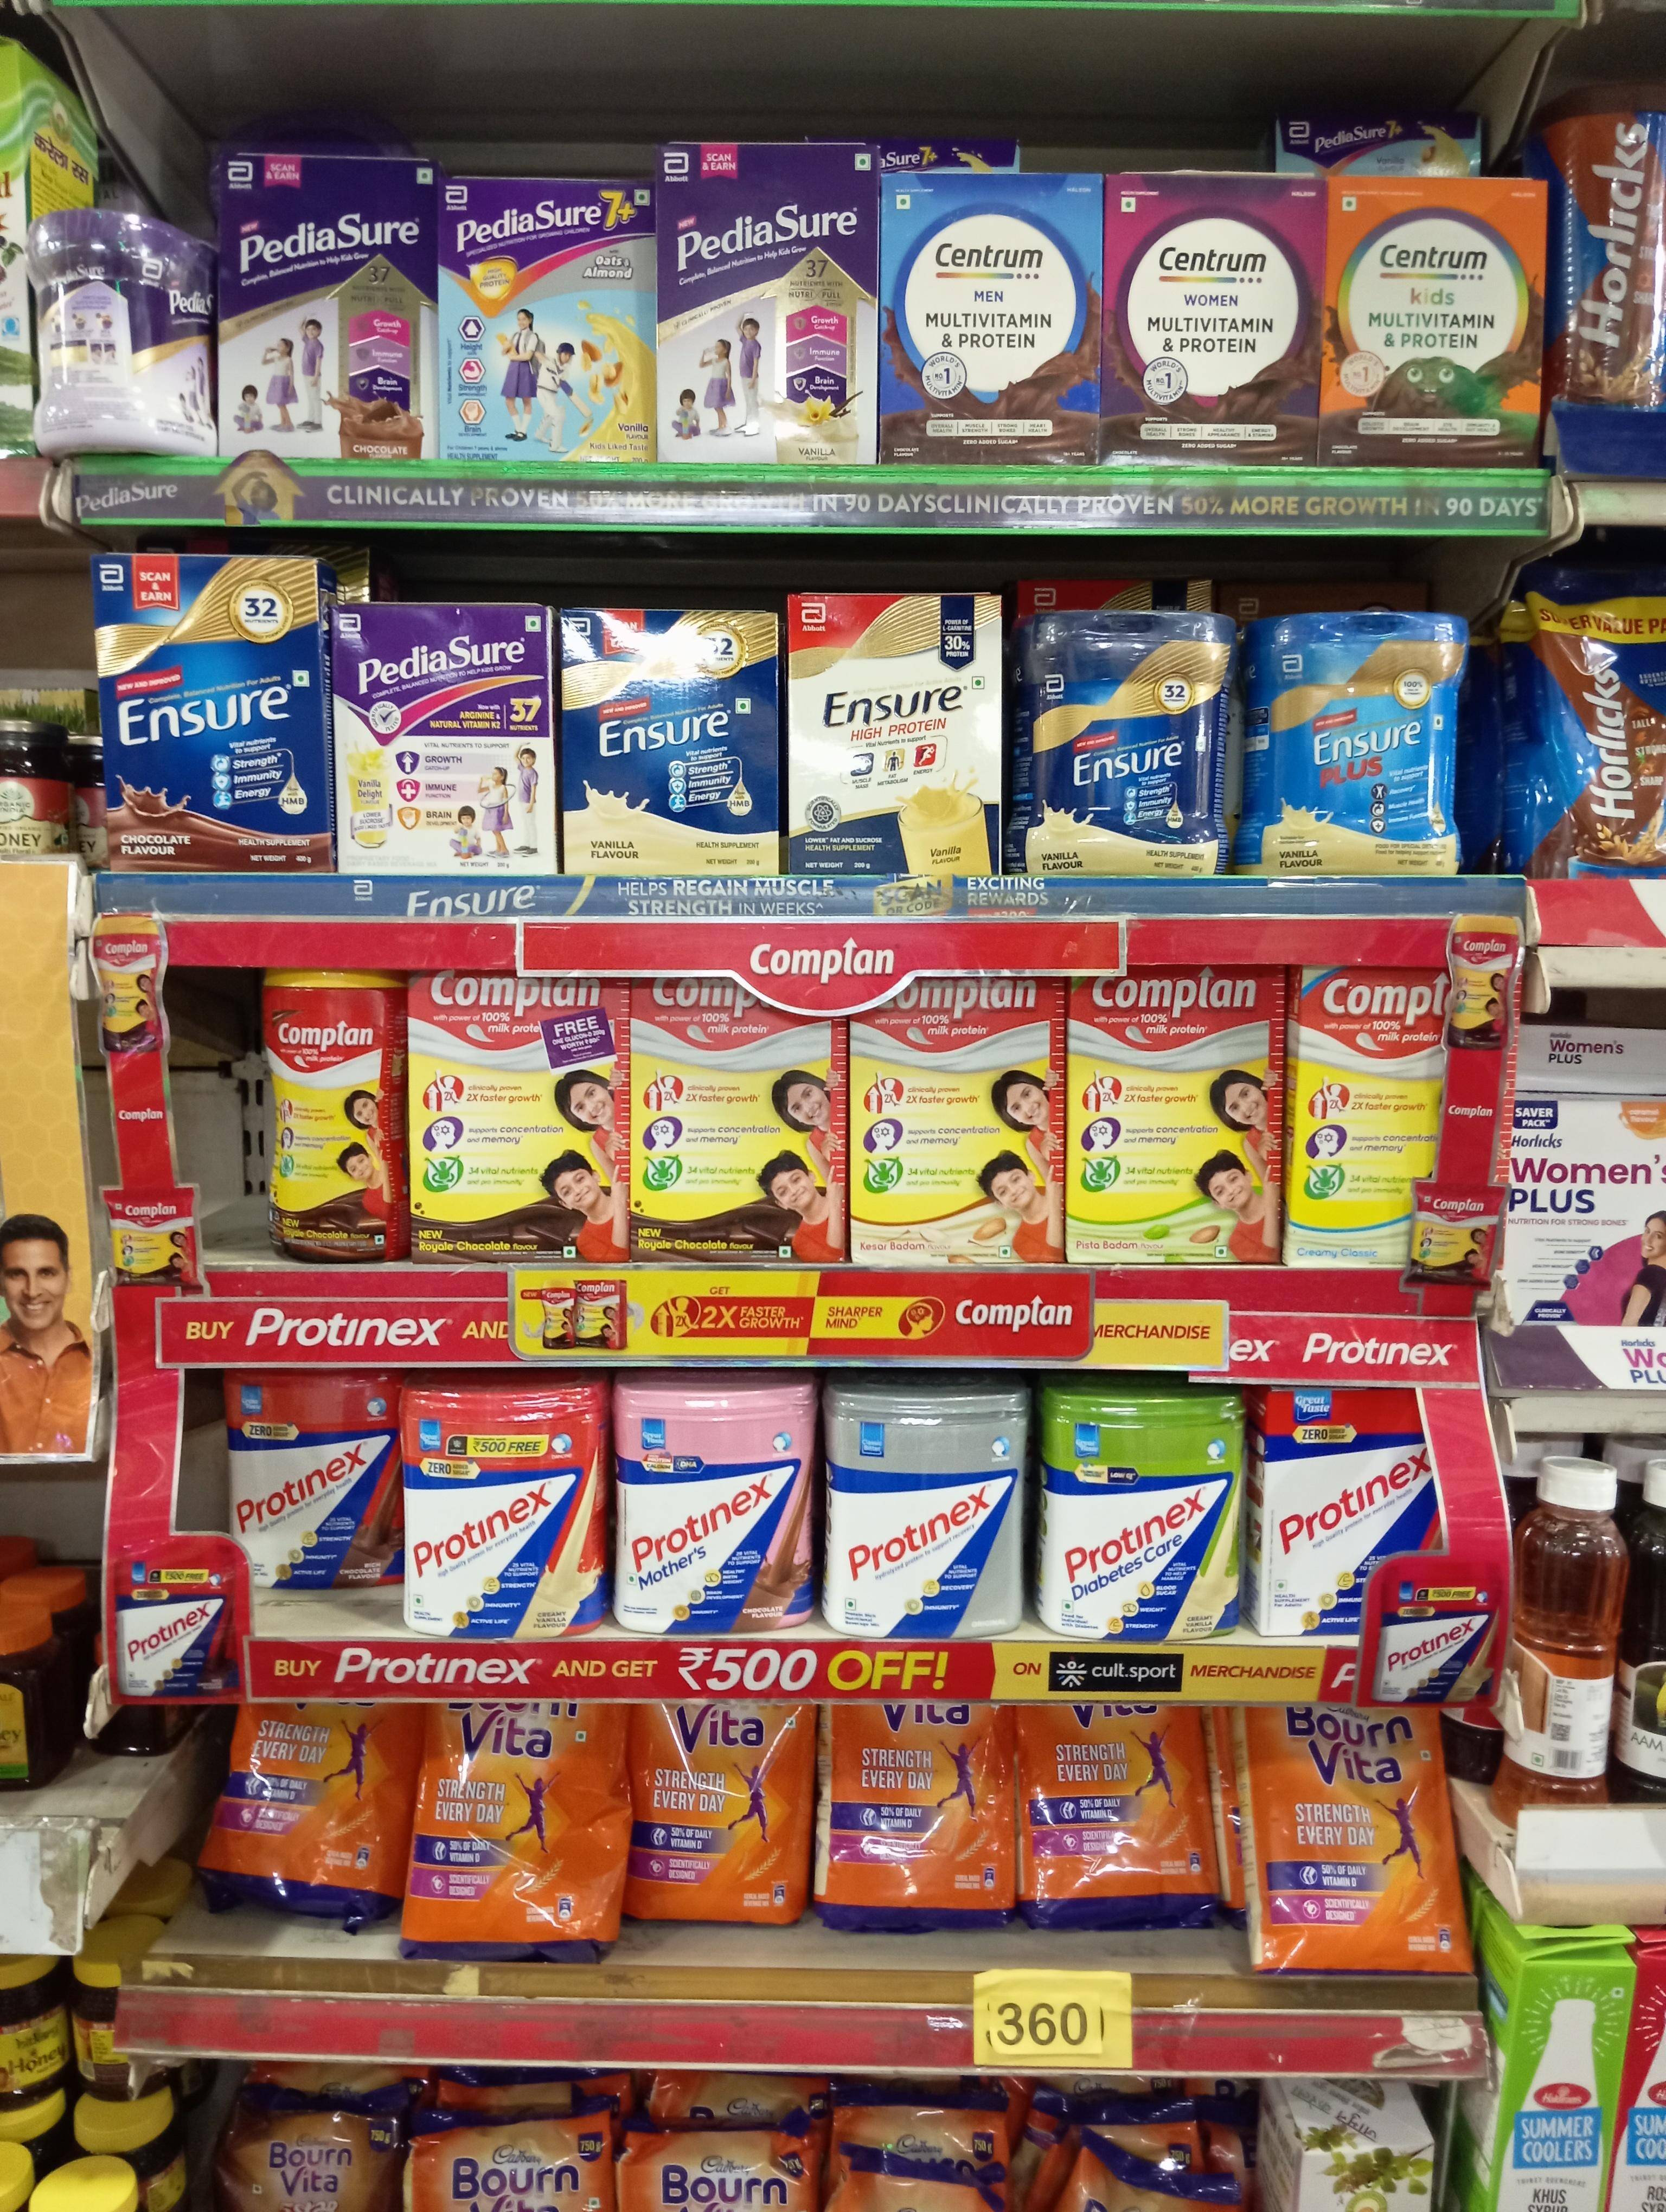BOURN_VITA_1_KG_POUCH: (1239, 1700, 1463, 1978), (418, 1700, 621, 1962), (823, 1703, 1013, 1927), (1026, 1710, 1216, 1920), (221, 1694, 394, 1922), (637, 1701, 803, 1930)
COMPLAN_CHOCOLATE_500_GMS_JAR: (264, 970, 406, 1259)
COMPLAN_CHOCOLATE_500_GMS_PACK: (413, 970, 628, 1266), (633, 977, 843, 1263)
COMPLAN_CREAMY_CLASSIC_500_G_PACK: (1292, 962, 1412, 1271)
COMPLAN_KESAR_BADAM_500_GMS_PACK: (852, 1011, 1062, 1263)
COMPLAN_PISTA_BADAM_500_GMS_PACK: (1069, 981, 1281, 1264)
ENSURE_VANILLA_400_G_PACK: (788, 591, 1001, 876), (560, 610, 775, 878)
HORLICK_CHOCOLATE_1_KG_JAR: (1556, 94, 1666, 409)
PEDIASURE_CHOCOLATE_500_G_PACK: (224, 152, 425, 462)
PEDIASURE_VANILLA_500_G_PACK: (658, 142, 873, 463)
PROTINEX_CHOCOLATE_400_G_JAR: (227, 1378, 399, 1596)
PROTINEX_ORIGINAL_400_G_JAR: (826, 1383, 1022, 1638)
PROTINEX_VANILLA_400_G_JAR: (410, 1381, 609, 1635)
